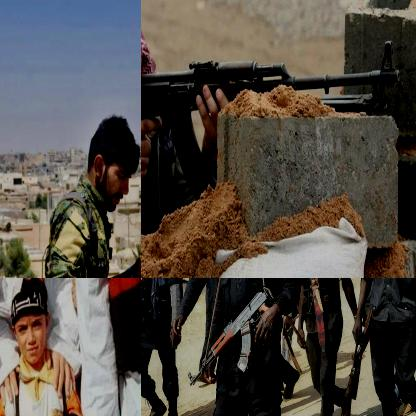rifle: (141, 36, 408, 230), (187, 285, 281, 390), (345, 296, 368, 402)
